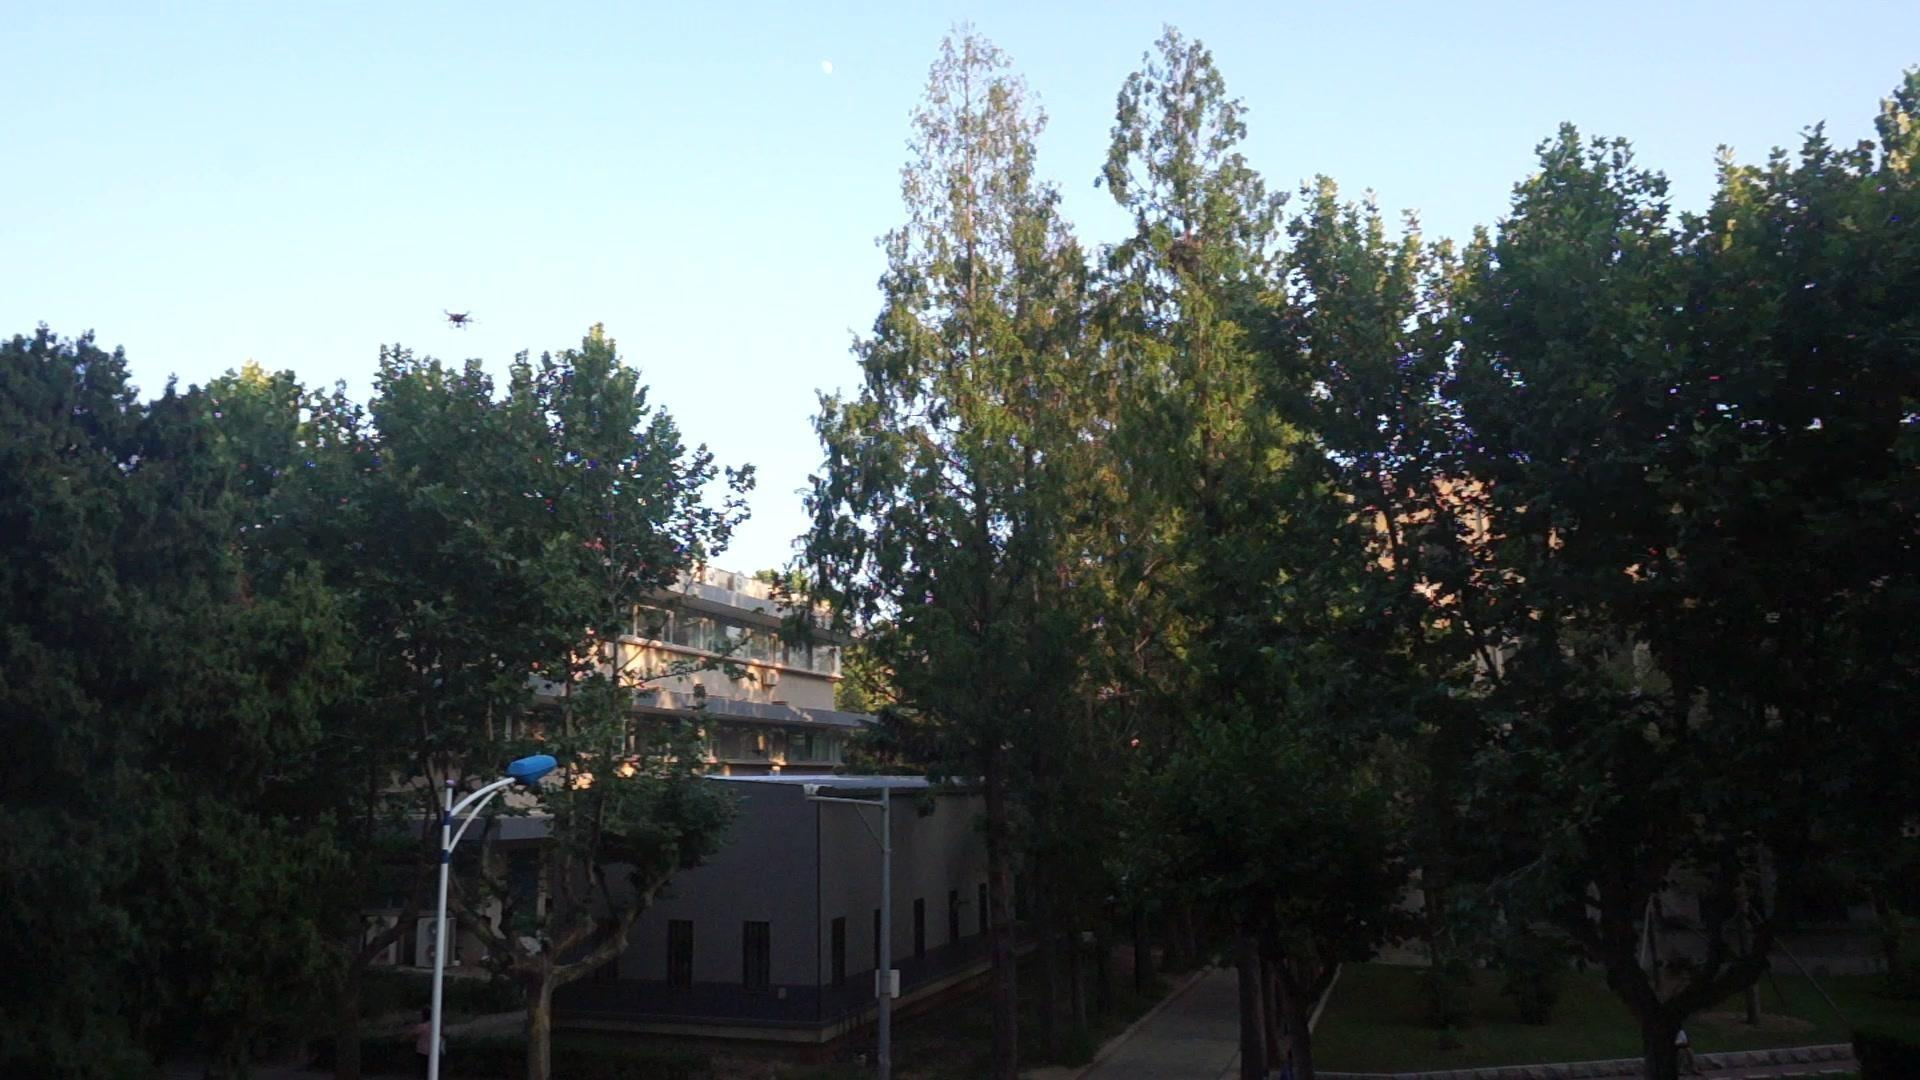UAV: (444, 310, 476, 330)
